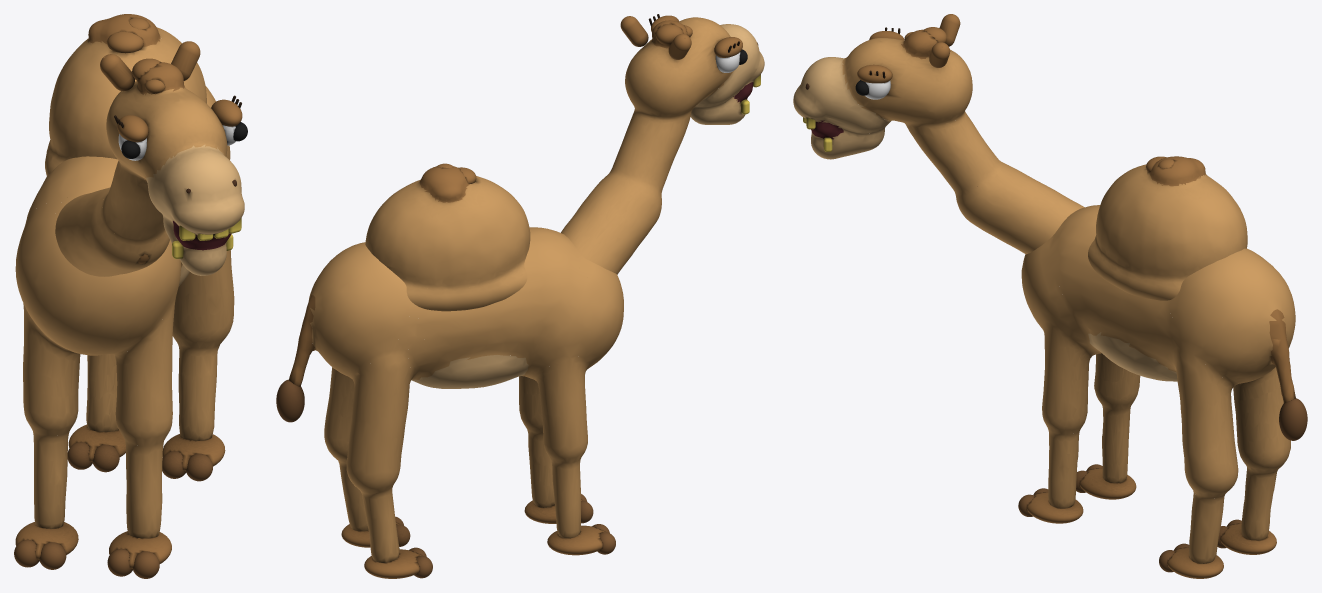
File: god-morgon.glb
3 views of the same model, side by side, from view 1: azimuth 30°, elevation 25°; view 2: azimuth 150°, elevation 25°; view 3: azimuth 270°, elevation 25° (orthographic). The views are drawn at different scales.
Parts seen in each view (by area): view 1: camelo__r0, cabeca__r0, corcova__r0, camelo__r15, camelo__r10, camelo__r2, camelo__r6, cabeca__r16, cabeca__r25, cabeca__r12, corcova__r2, cabeca__r21 (+9 smaller); view 2: camelo__r0, cabeca__r0, corcova__r0, camelo__r15, camelo__r6, camelo__r13; view 3: camelo__r0, cabeca__r0, corcova__r0, camelo__r15, camelo__r2, camelo__r10, camelo__r6, camelo__r13.
Part boxes in pixels (left/top/right/bottom): camelo__r0: left=15, top=86, right=234, bottom=538; cabeca__r0: left=55, top=62, right=244, bottom=276; corcova__r0: left=45, top=14, right=206, bottom=176; camelo__r15: left=15, top=522, right=78, bottom=559; camelo__r10: left=162, top=434, right=225, bottom=471; camelo__r2: left=109, top=531, right=171, bottom=568; camelo__r6: left=68, top=424, right=125, bottom=462; cabeca__r16: left=100, top=54, right=134, bottom=91; cabeca__r25: left=171, top=41, right=200, bottom=80; cabeca__r12: left=117, top=115, right=148, bottom=142; corcova__r2: left=107, top=31, right=143, bottom=53; cabeca__r21: left=211, top=99, right=242, bottom=126; camelo__r0: left=289, top=227, right=623, bottom=562; cabeca__r0: left=561, top=17, right=764, bottom=274; corcova__r0: left=365, top=166, right=530, bottom=311; camelo__r15: left=547, top=525, right=605, bottom=555; camelo__r6: left=364, top=549, right=422, bottom=578; camelo__r13: left=276, top=379, right=304, bottom=422; camelo__r0: left=1021, top=205, right=1295, bottom=563; cabeca__r0: left=793, top=29, right=1084, bottom=254; corcova__r0: left=1088, top=156, right=1247, bottom=300; camelo__r15: left=1079, top=468, right=1136, bottom=499; camelo__r2: left=1026, top=492, right=1083, bottom=523; camelo__r10: left=1167, top=547, right=1223, bottom=578; camelo__r6: left=1220, top=523, right=1276, bottom=554; camelo__r13: left=1279, top=398, right=1307, bottom=440.
Bounding box in the file's own units: 1.48 × 2.53 × 2.52.
